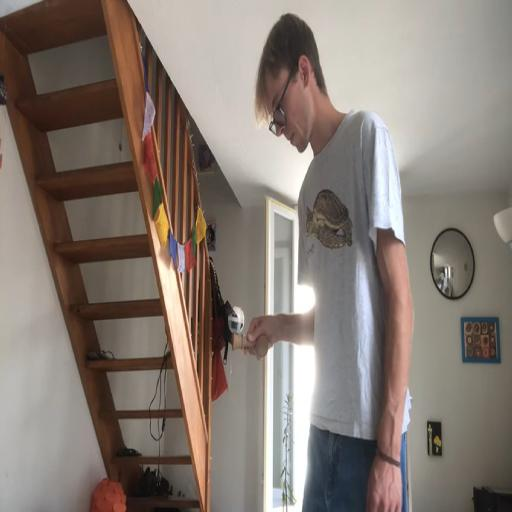kendama_ball: (228, 306, 244, 333)
